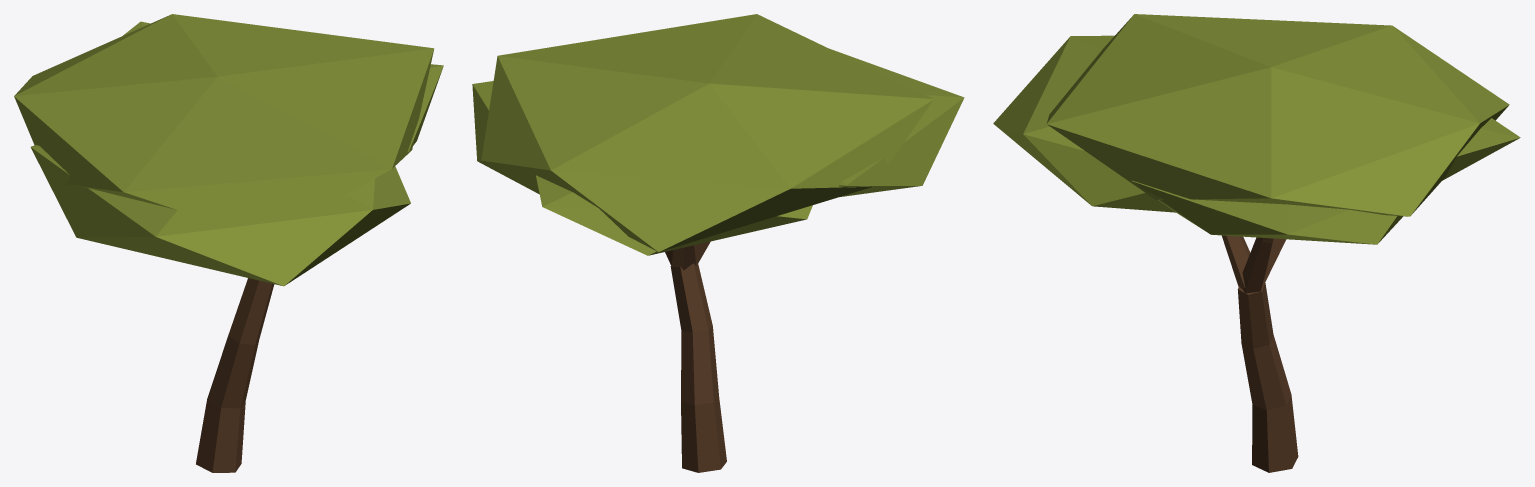
Rendered from Tree_Acacia_B.glb.
The picture shows the model from 3 angles, left to right: view 1: azimuth 30°, elevation 25°; view 2: azimuth 150°, elevation 25°; view 3: azimuth 270°, elevation 25°; orthographic projection. The views are drawn at different scales.
Visible parts, largest first — view 1: Tree_Acacia_B; view 2: Tree_Acacia_B; view 3: Tree_Acacia_B.
Boxes of the visible parts, bbox=[...] form: Tree_Acacia_B: bbox=[14, 14, 443, 472]; Tree_Acacia_B: bbox=[472, 14, 964, 472]; Tree_Acacia_B: bbox=[993, 14, 1520, 472].
Bounding box in the file's own units: 4.01 × 3.63 × 4.4.
